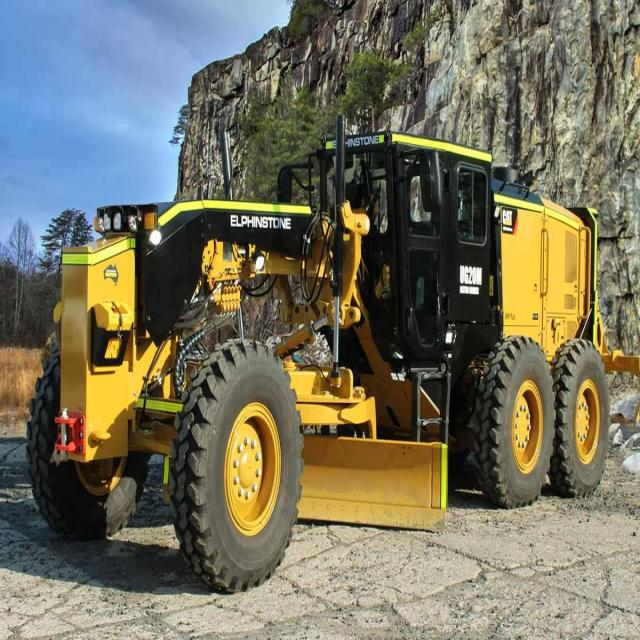Grader: (29, 105, 628, 594)
